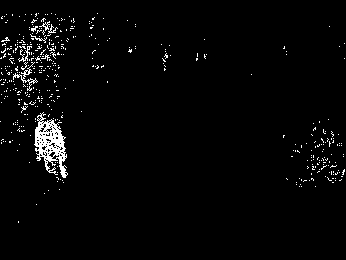person: (29, 111, 69, 188)
